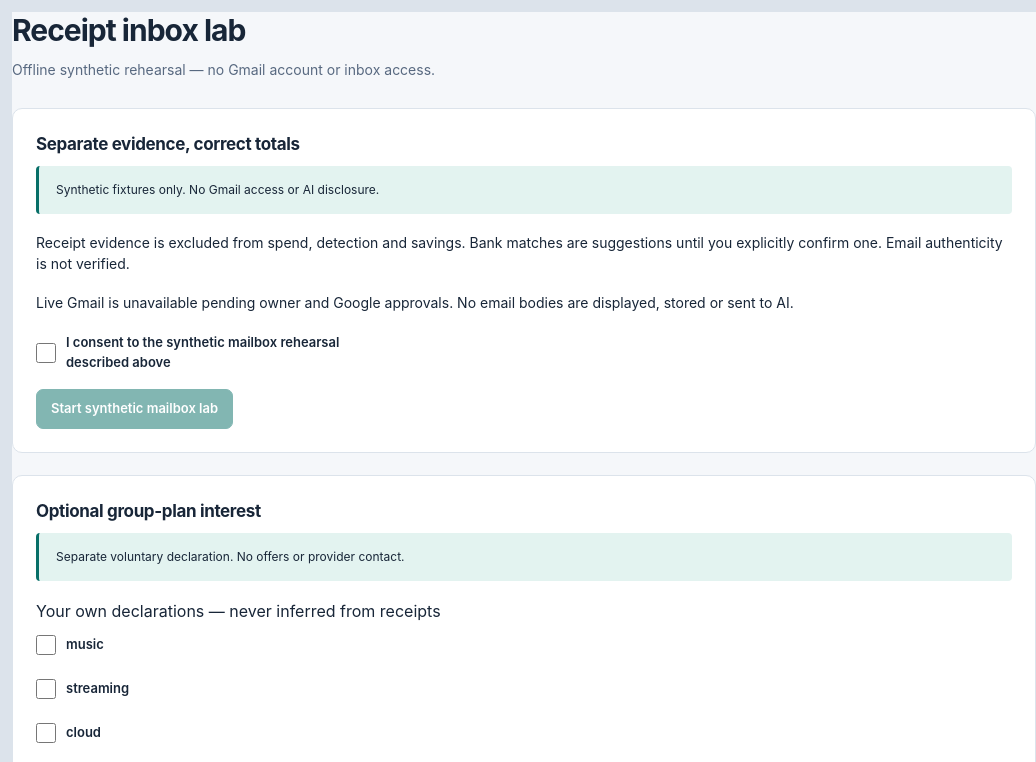
it: synthetic consent is explicit and live Gmail is never offered as connected
The image size is (1036, 762).
Check: the button "Start synthetic mailbox lab" is disabled, box [36,389,233,429]
Click the checkbox labelled "I consent to the synthetic mailbox rehearsal described above". click: click(46, 353)
box: [36,343,56,363]
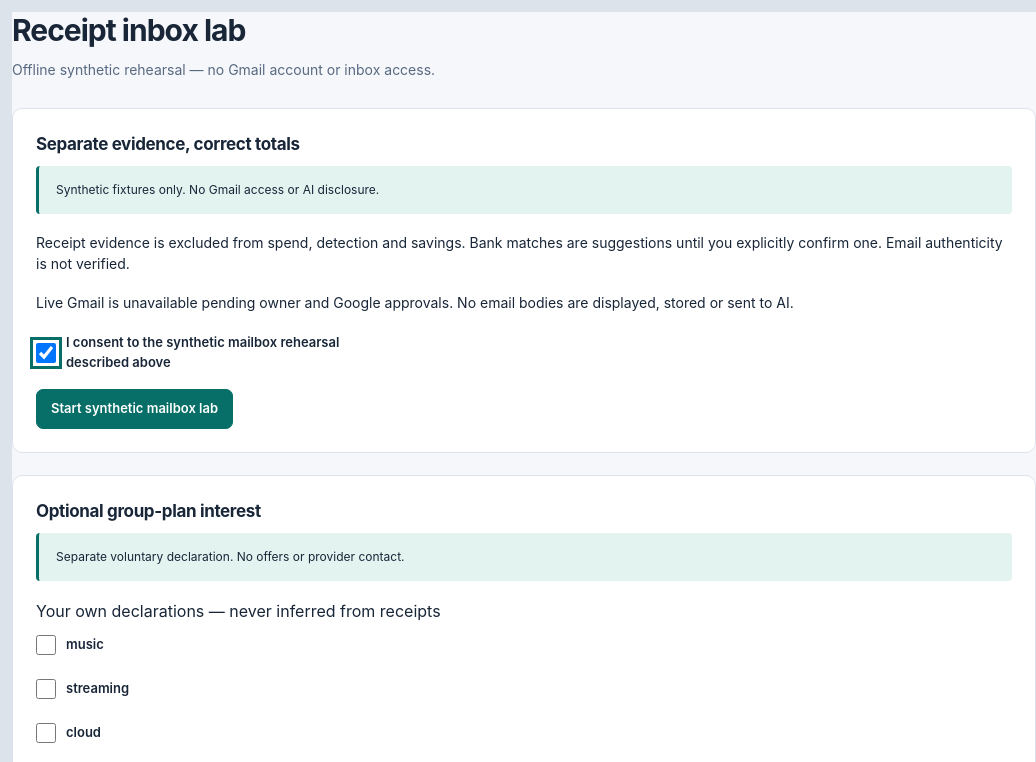
Click the button "Start synthetic mailbox lab". click: click(135, 409)
box: [36,389,233,429]
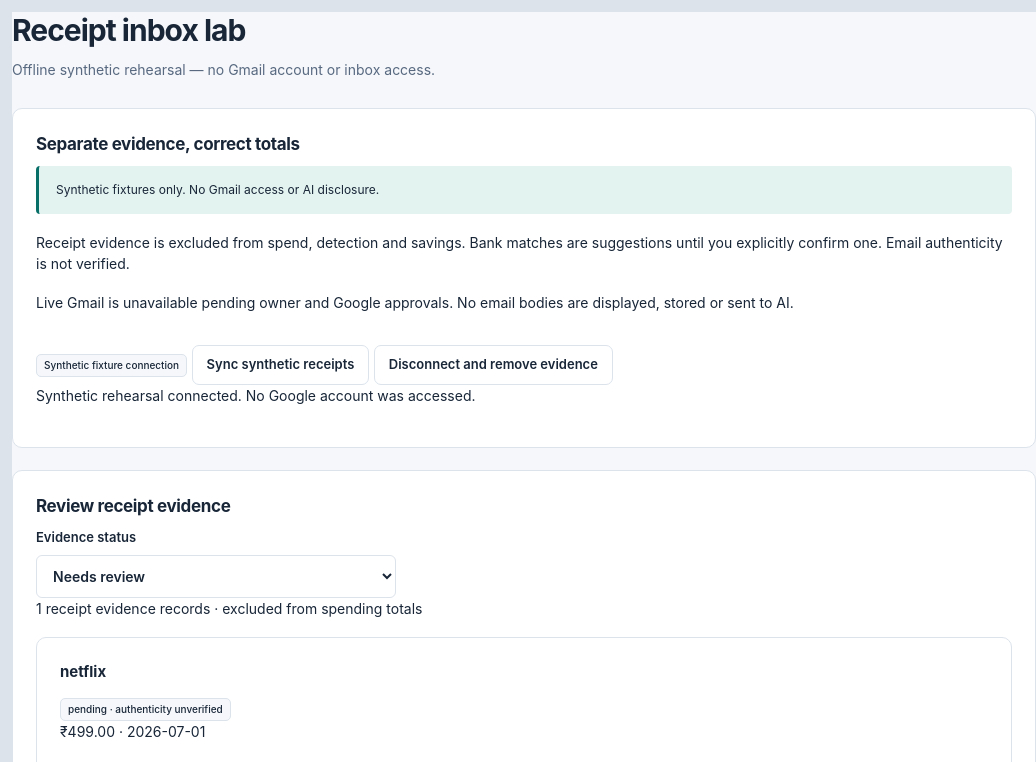
Check: the text "Live Gmail is unavailable" is shown, box [36,294,794,311]
Check: the text "Synthetic fixture connection" is shown, box [36,354,187,377]
